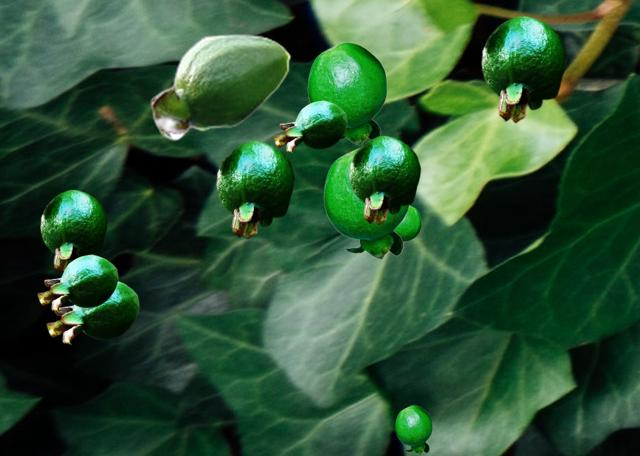guava: (150, 33, 290, 140), (323, 147, 409, 258), (481, 15, 566, 122), (307, 42, 386, 144), (216, 140, 294, 238), (349, 135, 420, 224), (46, 281, 138, 344), (40, 189, 107, 273), (37, 254, 117, 311), (273, 100, 346, 152), (395, 405, 431, 453), (395, 205, 420, 241)
